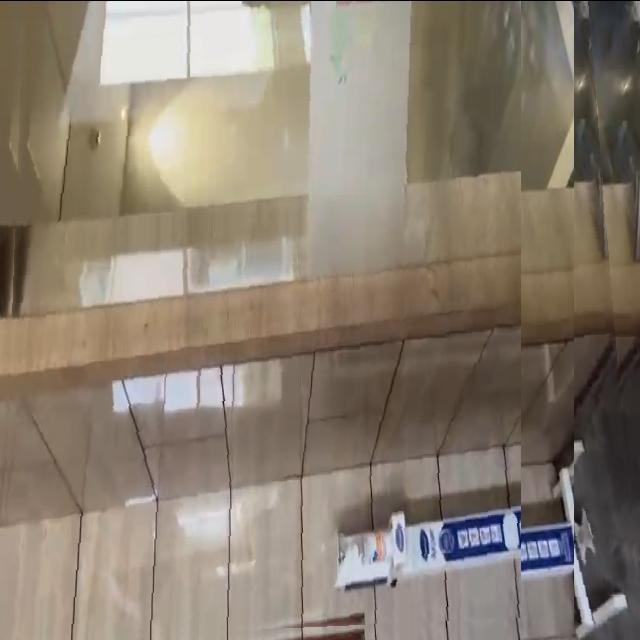door: (0, 0, 521, 640)
floor: (574, 0, 640, 640)
